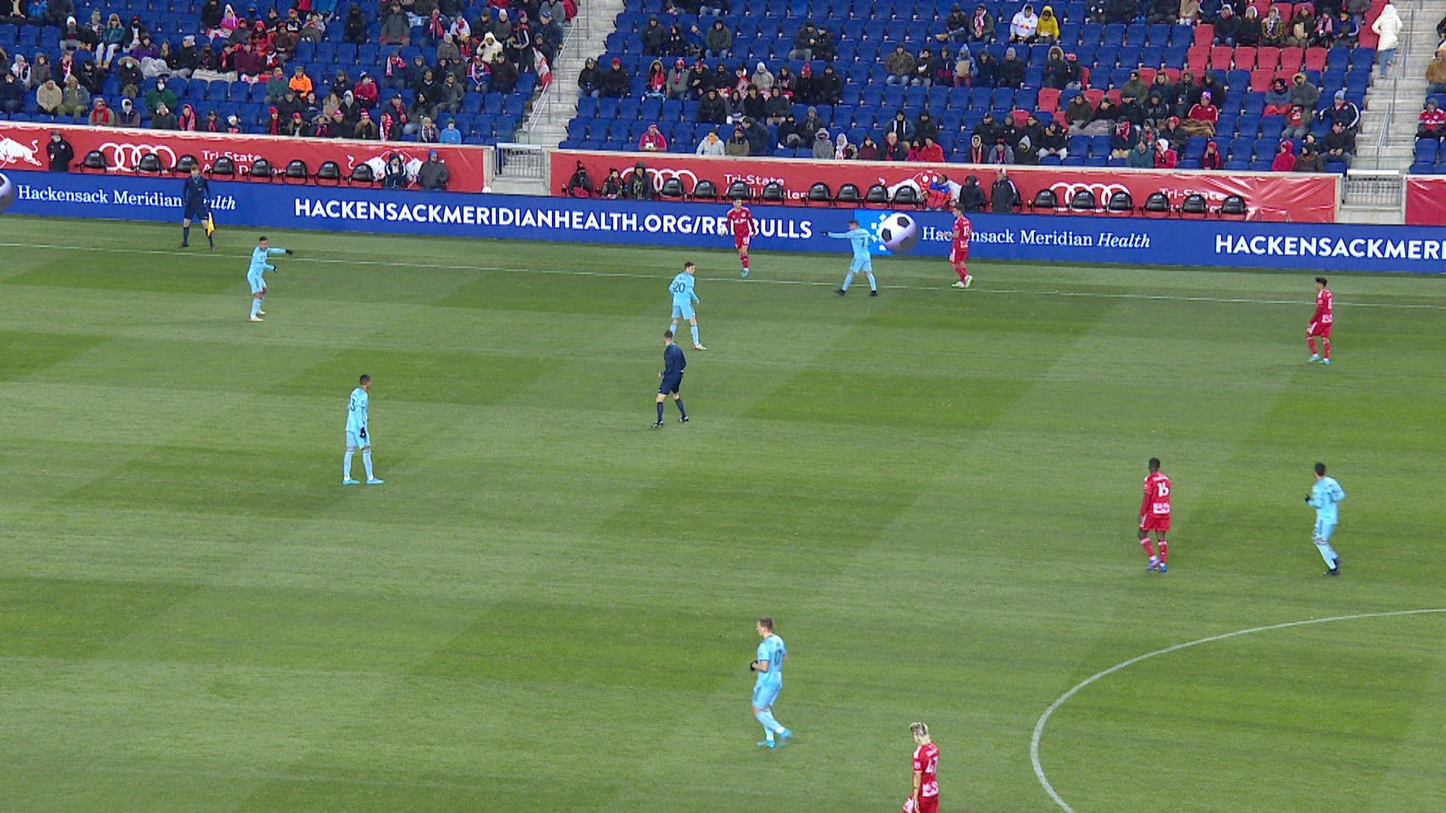Player: (750, 616, 791, 748), (1304, 462, 1345, 575), (343, 374, 384, 485), (822, 219, 878, 296), (247, 236, 294, 322), (1137, 457, 1170, 572), (651, 330, 688, 428), (902, 722, 940, 813), (178, 164, 217, 251), (669, 261, 706, 351), (720, 195, 755, 277), (940, 203, 972, 288), (1305, 277, 1332, 364)
